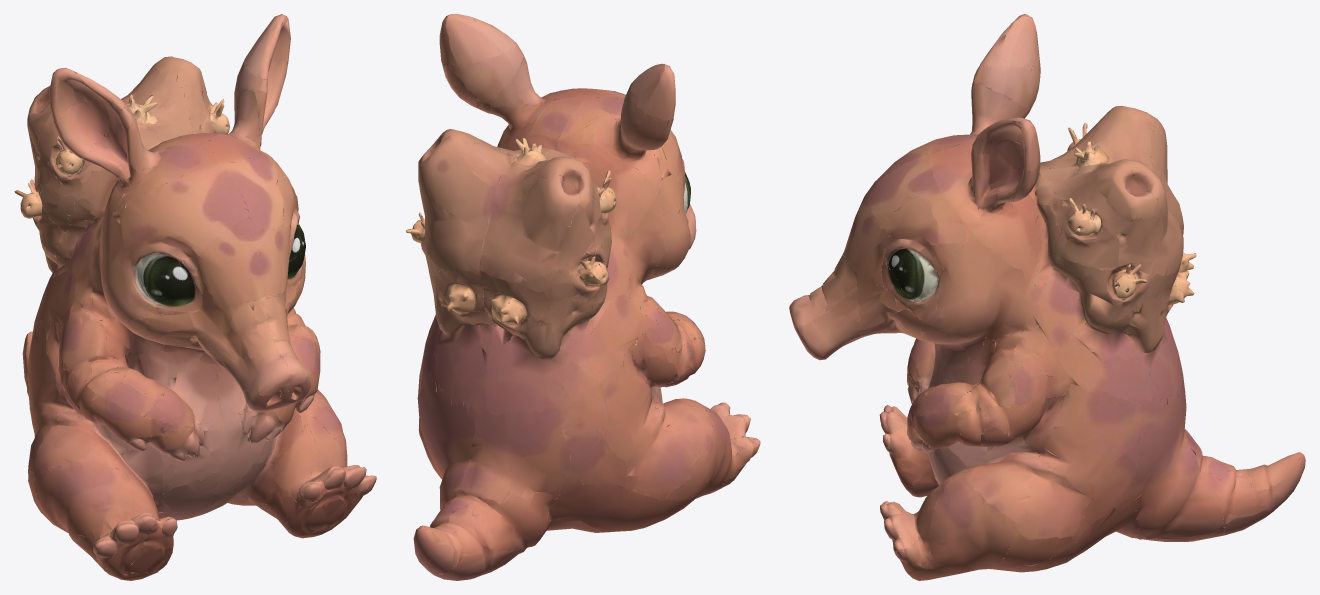
3 views of the same model, side by side, from view 1: azimuth 30°, elevation 25°; view 2: azimuth 150°, elevation 25°; view 3: azimuth 270°, elevation 25° (orthographic).
Parts seen in each view (by area): view 1: Mesh_0; view 2: Mesh_0; view 3: Mesh_0.
Boxes of the visible parts, x1,y1,x2,y2 form: Mesh_0: [14, 14, 376, 580]; Mesh_0: [406, 14, 760, 580]; Mesh_0: [789, 14, 1305, 580].
Size of the model in its own units: 1.2 by 1.9 by 1.9.
Materials: 1 (1 with a texture image).
